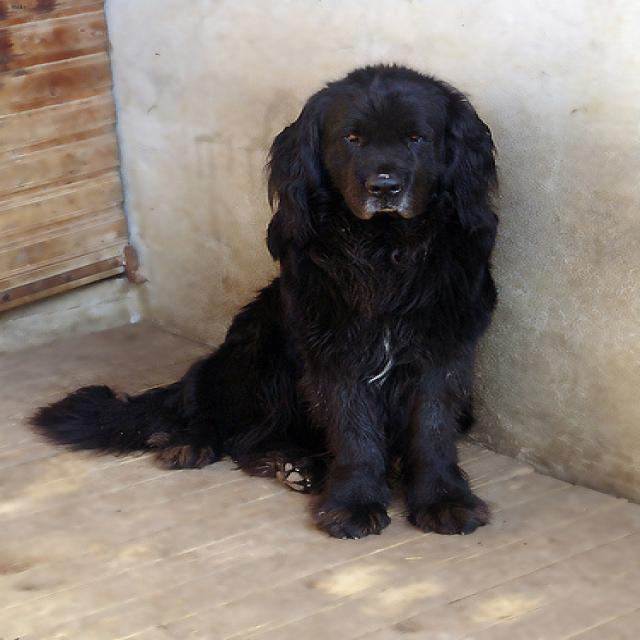dog-newfoundland: (14, 55, 514, 547)
